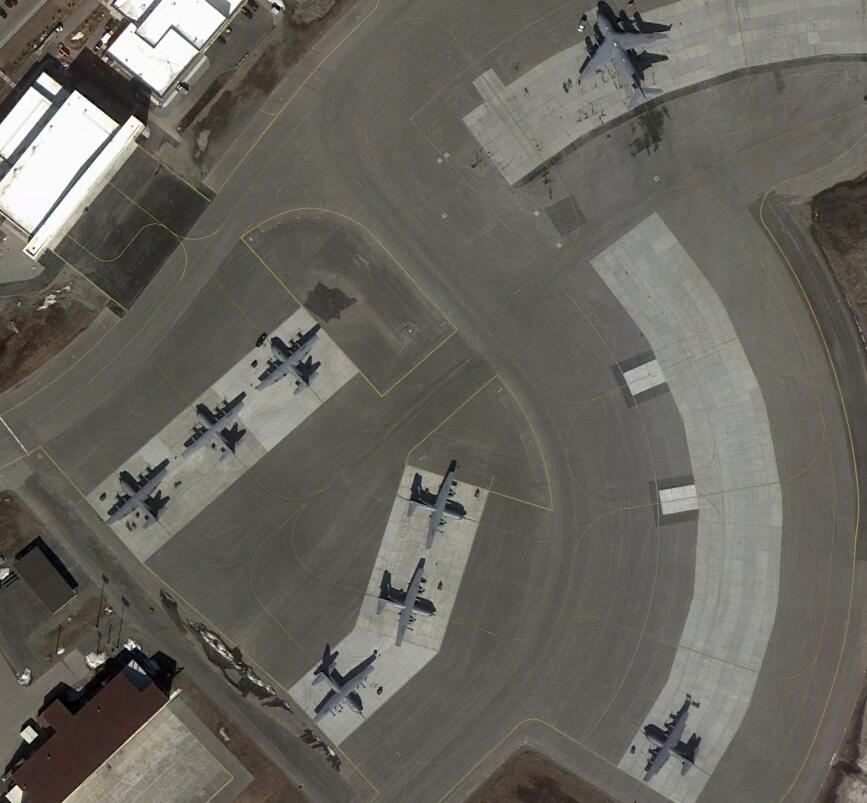A2: (405, 464, 468, 549), (377, 562, 438, 648), (642, 701, 701, 783), (103, 463, 173, 531), (311, 654, 376, 724), (253, 335, 326, 396), (179, 399, 246, 463)
A3: (576, 6, 671, 109)
